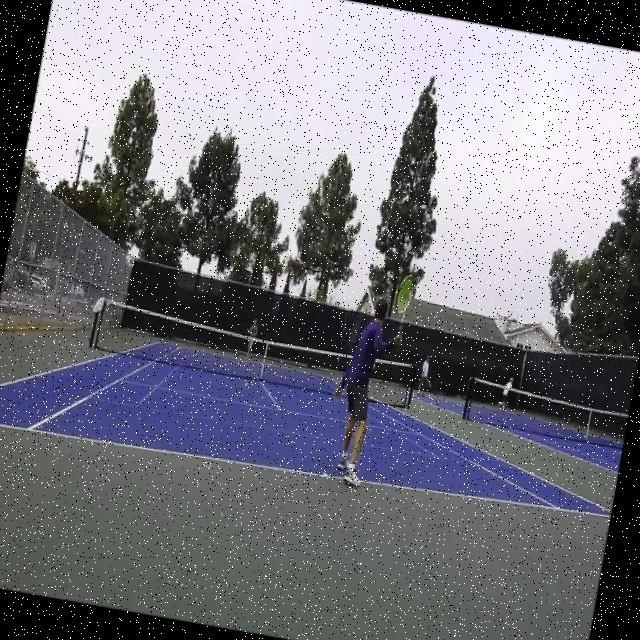court: (0, 314, 626, 533)
player: (318, 264, 417, 491)
